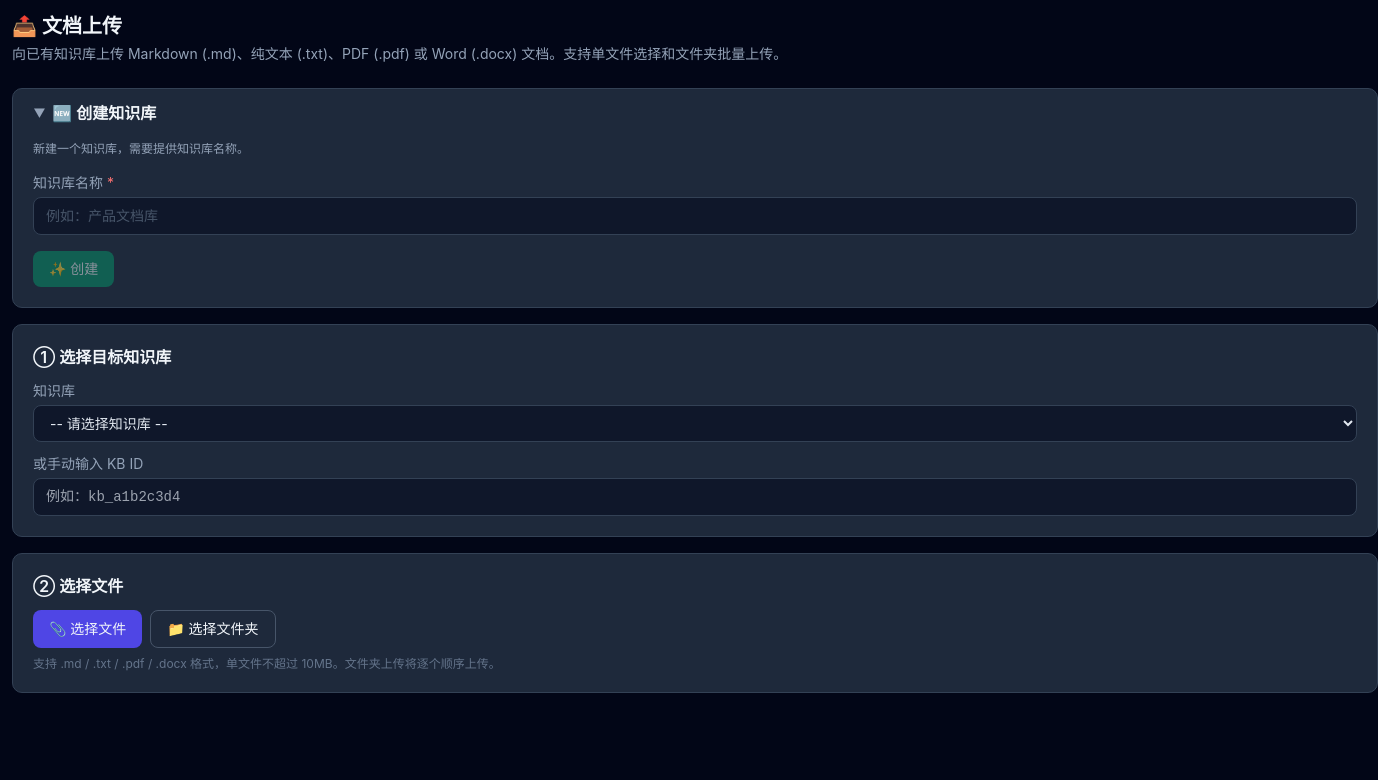
Test case: UploadDocPage › 创建知识库 Card › 创建成功后应清空表单并刷新 KB 下拉
This screenshot has width=1378, height=780.
Step 1. Type "我的库" into the field with placeholder "例如：产品文档库" → (695,216), box x1=33 y1=197 x2=1357 y2=235
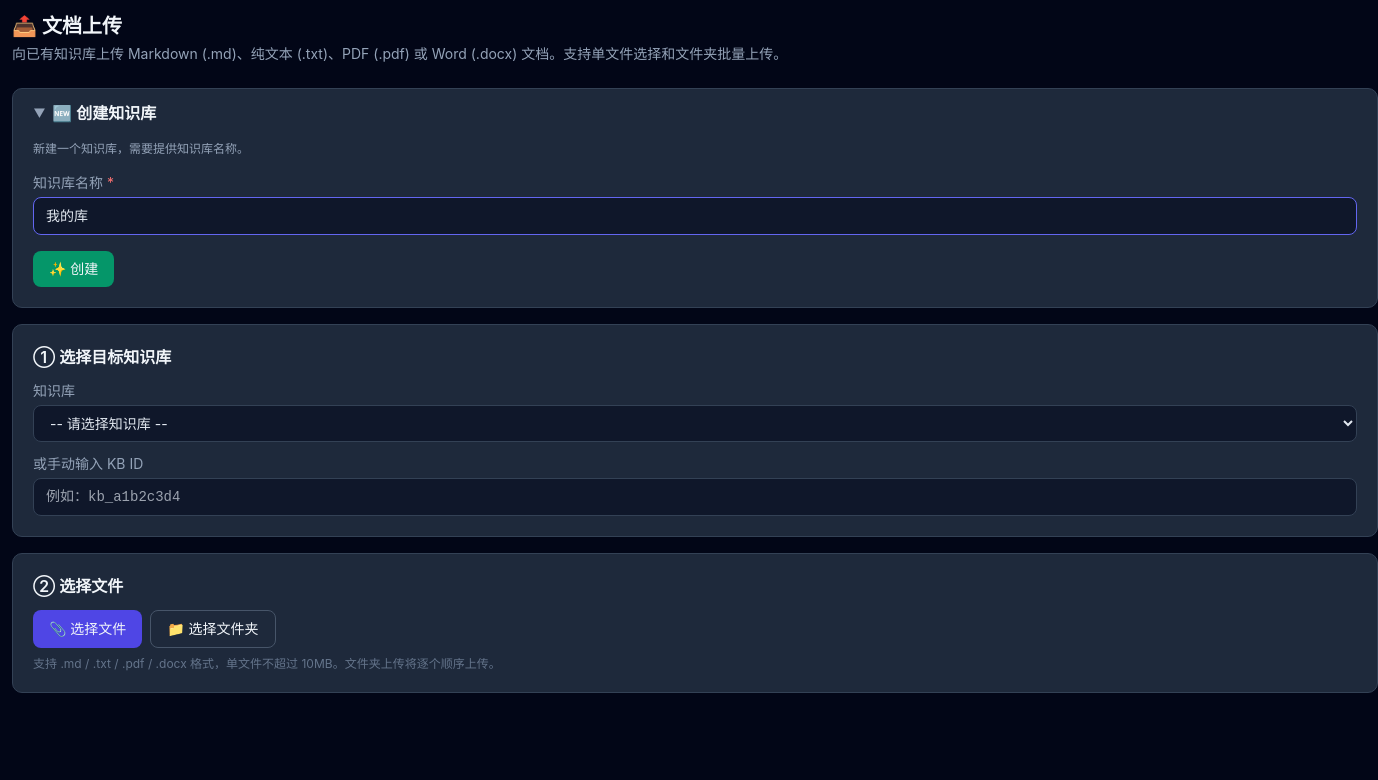
Step 2. Click the button "✨ 创建" → (74,269), box x1=33 y1=251 x2=114 y2=287
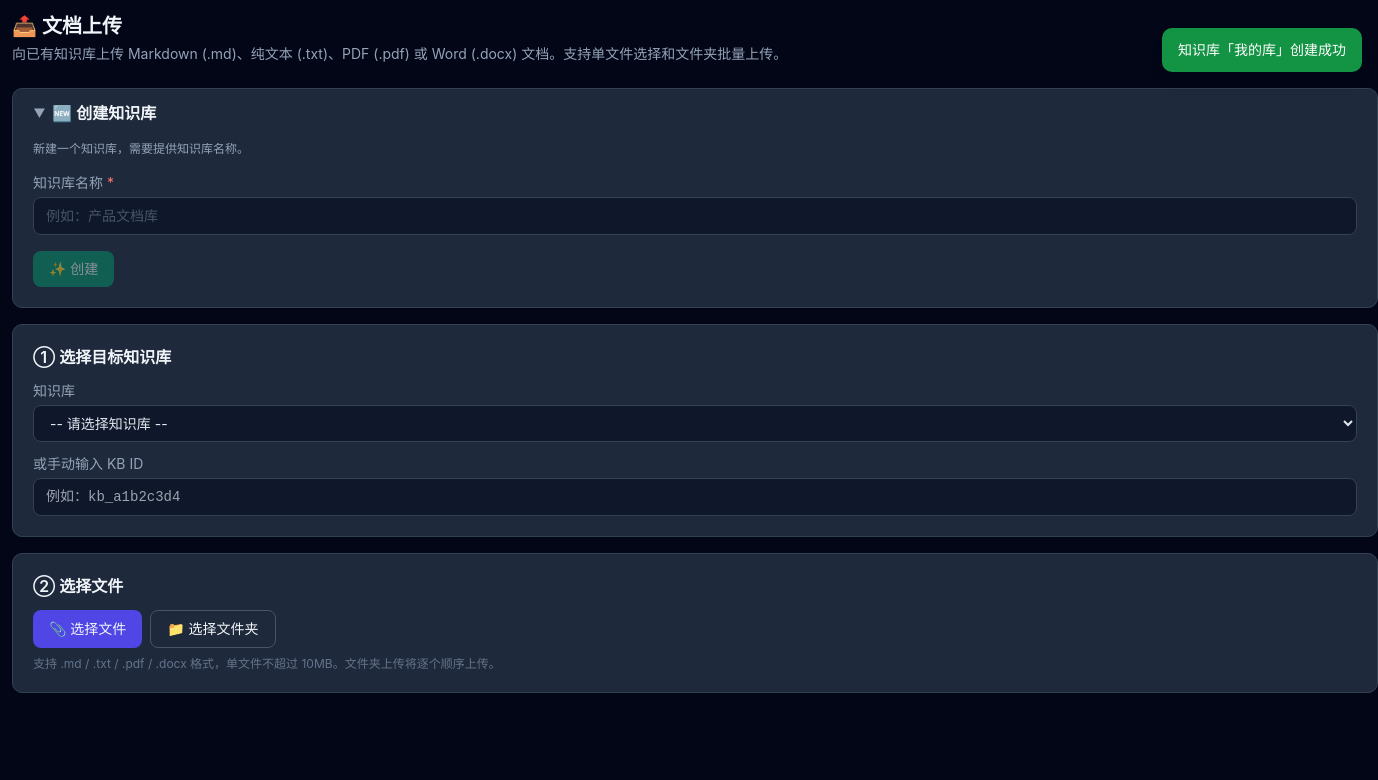
Now the field with placeholder "例如：产品文档库" is empty, box x1=33 y1=197 x2=1357 y2=235
Now the text "知识库「我的库」创建成功" is shown, box x1=1162 y1=28 x2=1362 y2=72
